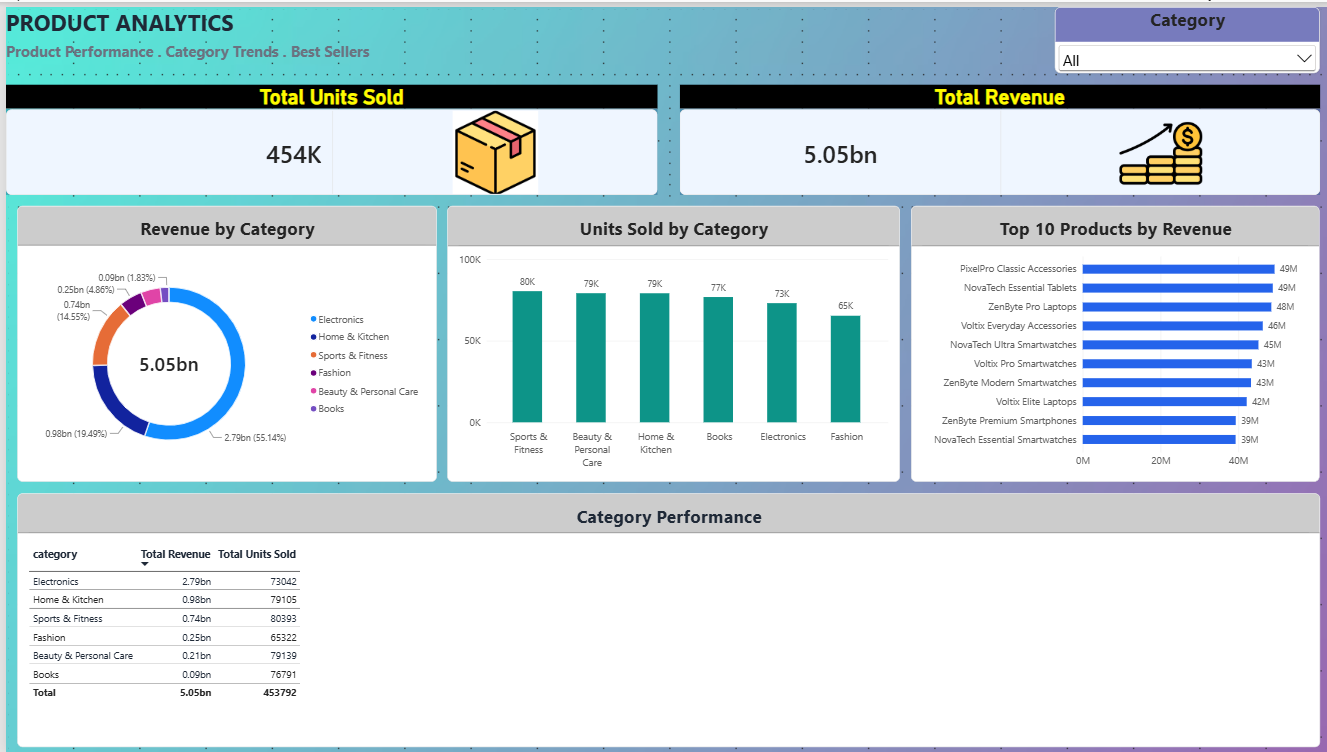

This screenshot's page, from the dashboard's own definition file:
{"tool":"powerbi","page":{"name":"Product Analytics","canvas":[1920,1080],"ordinal":2},"visuals":[{"type":"textbox","box":[0,0,368,48],"z":0},{"type":"textbox","box":[0,48,736,32],"z":1000},{"type":"cardVisual","title":"Total Units Sold","fields":{"Data":["public order_items.Total Units Sold"]},"box":[0,112,944,160],"z":2000},{"type":"cardVisual","title":"Total Revenue","fields":{"Data":["public order_items.Total Revenue"]},"box":[976,112,928,160],"z":3000},{"type":"donutChart","title":"Revenue by Category","fields":{"Category":["public products.category"],"Y":["public order_items.Total Revenue"]},"box":[16,288,608,400],"z":4000},{"type":"clusteredColumnChart","title":"Units Sold by Category","fields":{"Category":["public products.category"],"Y":["public order_items.Total Units Sold"]},"box":[640,288,656,400],"z":5000},{"type":"clusteredBarChart","title":"Top 10 Products by Revenue","fields":{"Category":["public products.product_name"],"Y":["public order_items.Total Revenue"]},"box":[1312,288,592,400],"z":6000},{"type":"tableEx","title":"Category Performance","fields":{"Values":["public products.category","public order_items.Total Revenue","public order_items.Total Units Sold"]},"box":[16,704,1888,368],"z":7000},{"type":"slicer","title":"Category","fields":{"Values":["public products.category"]},"box":[1520,0,384,96],"z":8000}]}

Visuals, with their boxes in screenshot pixels (x1, y1, x2, y2), scaled from the page's 1920x1080 canvas onto the 1327x752 screenshot:
textbox: 0,0,254,33
textbox: 0,33,509,56
"Total Units Sold" cardVisual: 0,78,652,189
"Total Revenue" cardVisual: 675,78,1316,189
"Revenue by Category" donutChart: 11,201,431,479
"Units Sold by Category" clusteredColumnChart: 442,201,896,479
"Top 10 Products by Revenue" clusteredBarChart: 907,201,1316,479
"Category Performance" tableEx: 11,490,1316,746
"Category" slicer: 1051,0,1316,67
